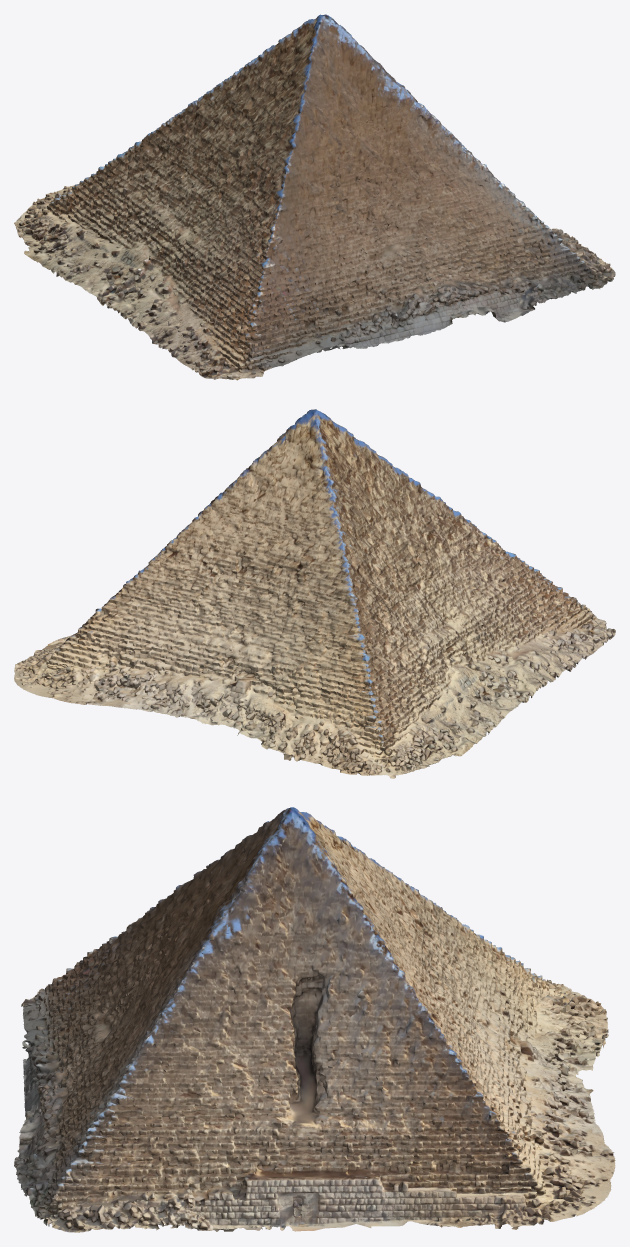
File: menkaure.glb
The picture shows the model from 3 angles, top to bottom: view 1: azimuth 30°, elevation 25°; view 2: azimuth 150°, elevation 25°; view 3: azimuth 270°, elevation 25°; orthographic projection. The views are drawn at different scales.
Parts seen in each view (by area): view 1: Object_2; view 2: Object_2; view 3: Object_2.
Boxes of the visible parts, x1,y1,x2,y2 form: Object_2: (14, 14, 615, 380); Object_2: (14, 409, 615, 778); Object_2: (14, 807, 615, 1232).
Bounding box in the file's own units: 90.35 × 49.68 × 88.28.
Materials: 1 (1 with a texture image).
